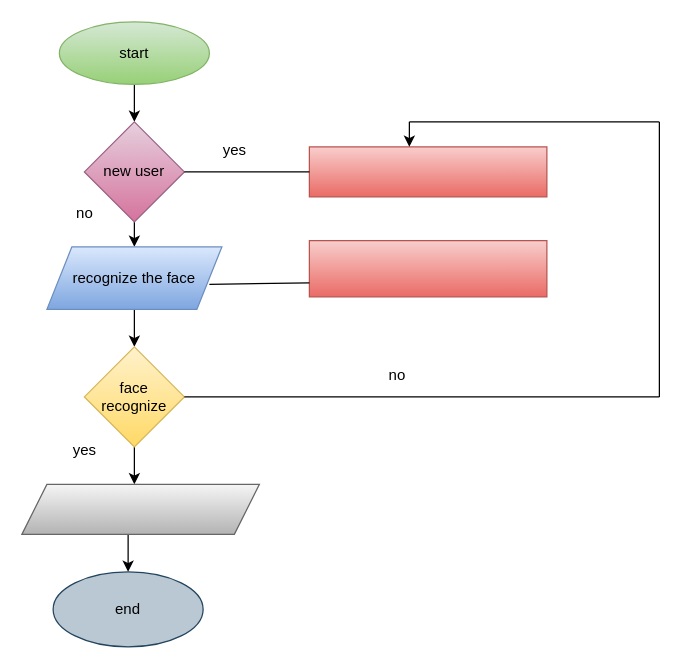
This 683x669 diagram has some shape labels left out. Here are the shapes that lost their labels. From the top down, the centre of each, then its label:
At [427,171]: "give your photograpy".
At [427,268]: "store the face data in folder on your name".
At [140,508]: "stored in css file with registration number&date time of entry".
